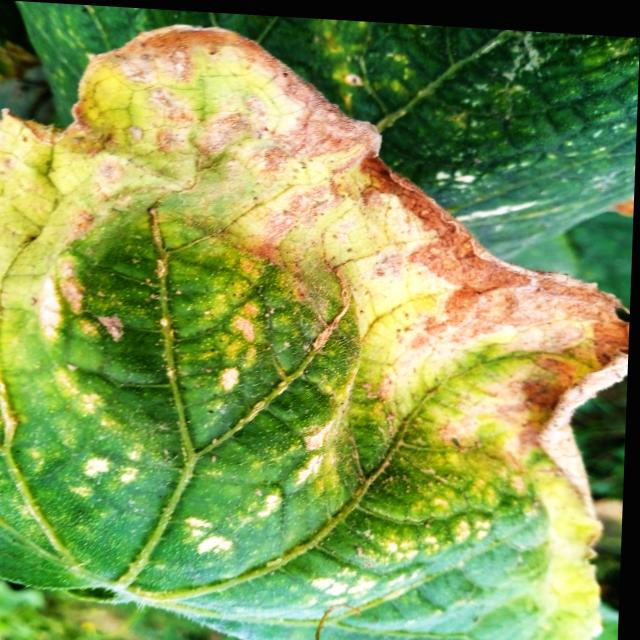Gummy-Stem-Blight: (0, 23, 630, 535)
